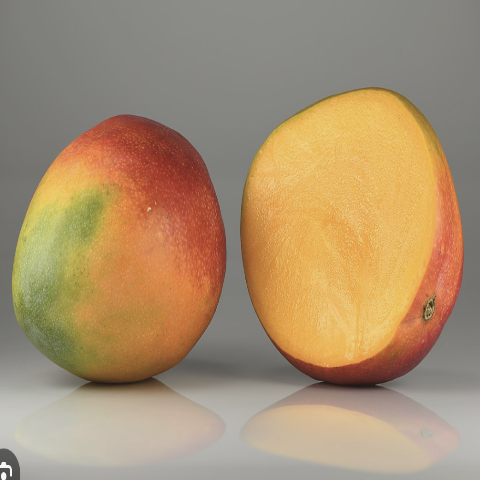mango: (237, 73, 468, 417), (7, 110, 231, 412)
